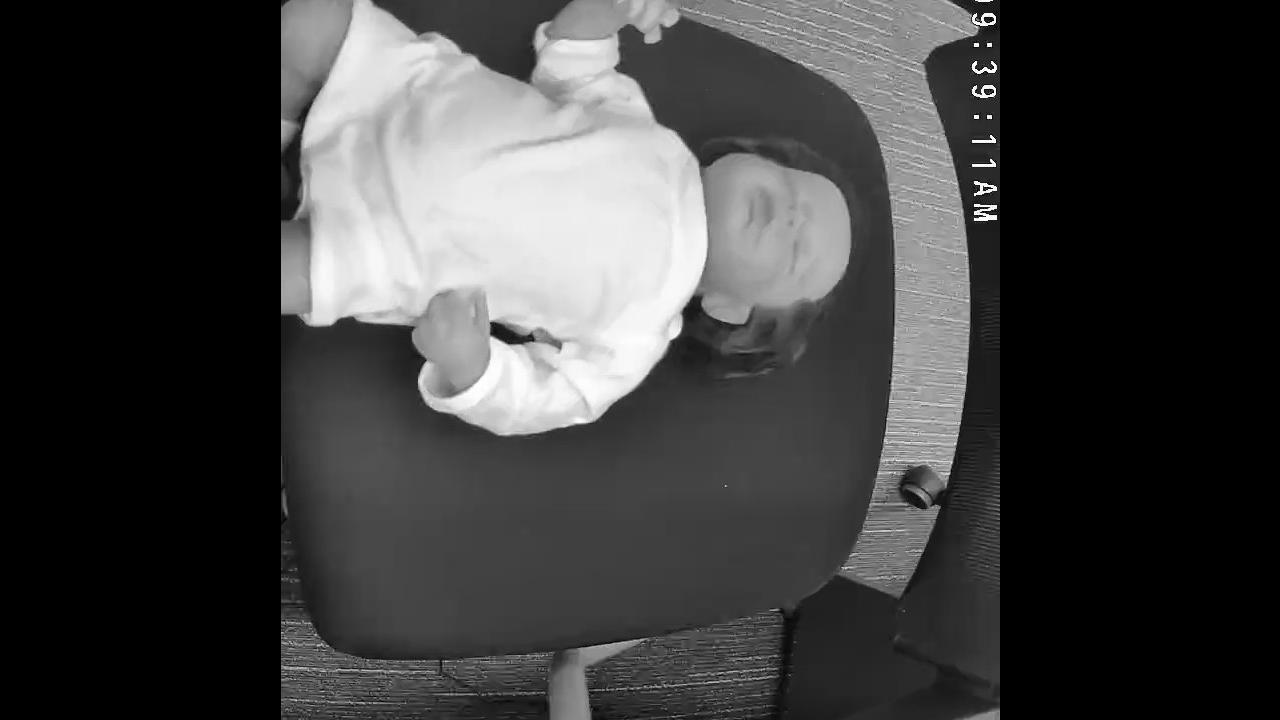hand: (408, 282, 488, 382), (603, 0, 679, 44)
